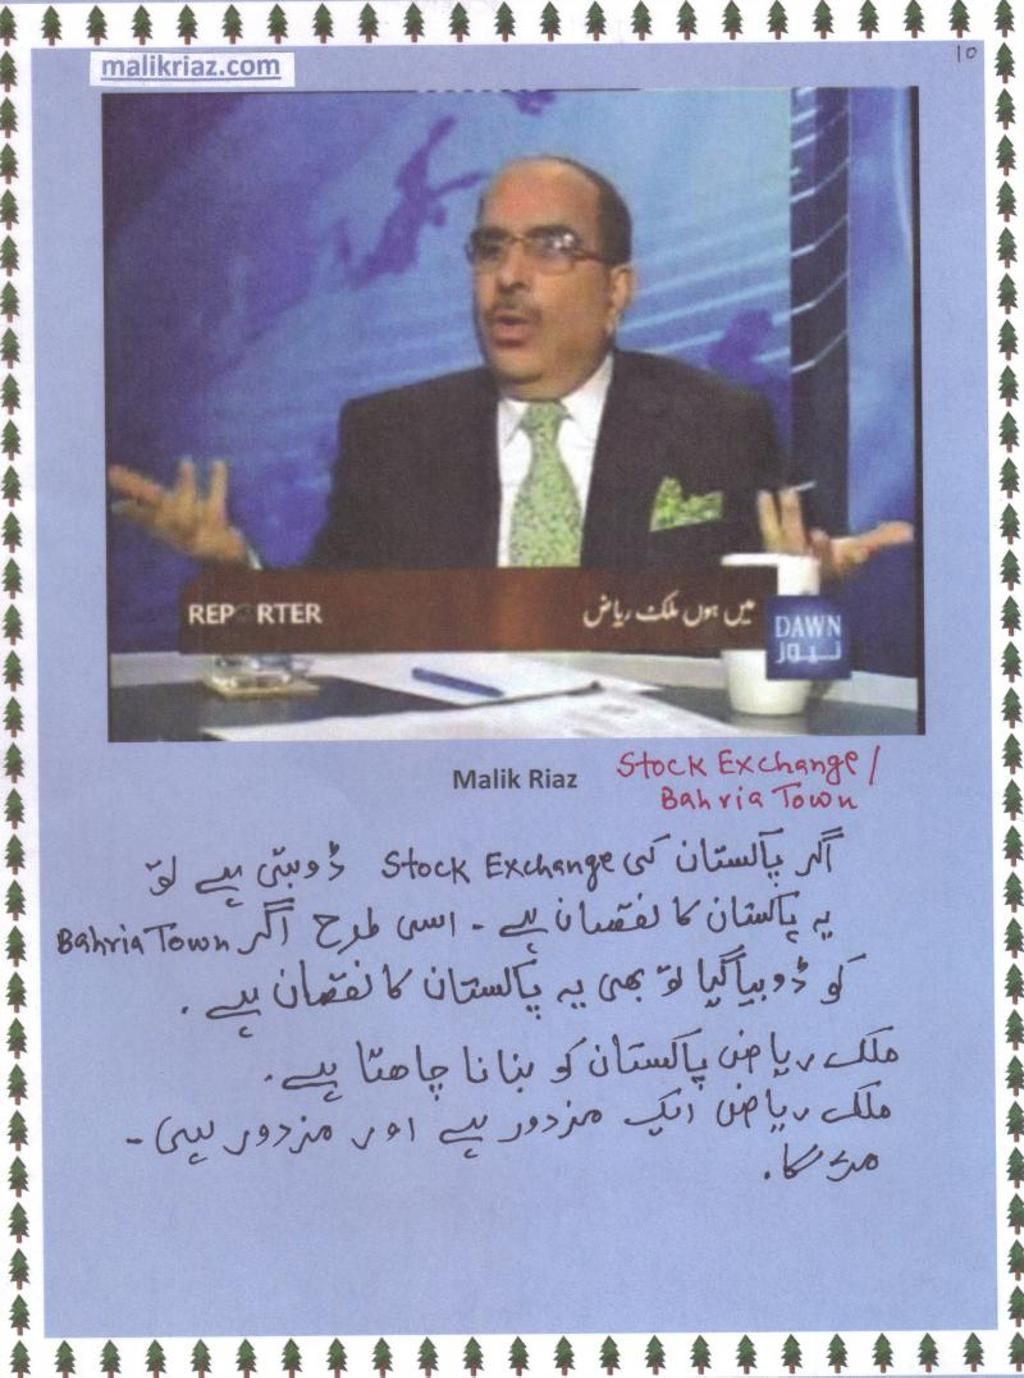face: (476, 175, 600, 374)
